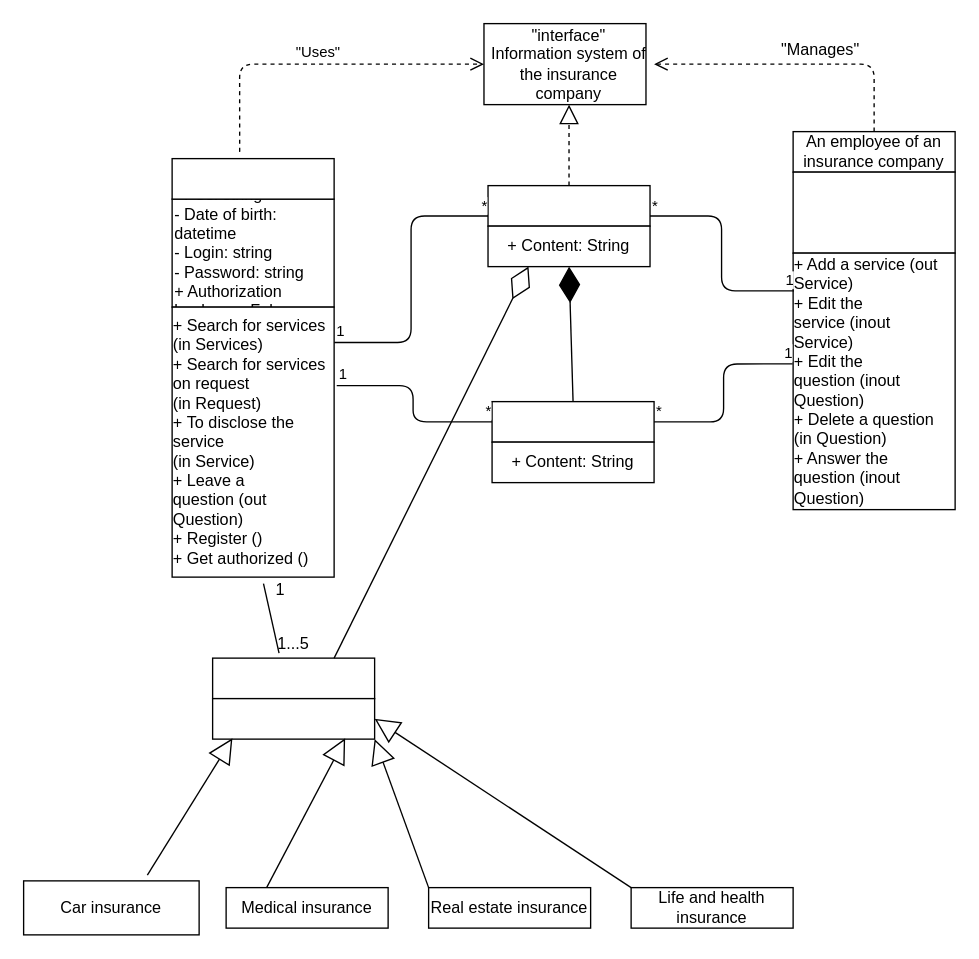
Image size: 979x959. Some labels were removed from this diagram. The centre of each missing label's shape, as x and y in pixels:
+ Title: String: (293,718)
-FCs: String: (873,212)
Client: (252,178)
Question: (572,421)
Request: (293,678)
Services: (568,205)
